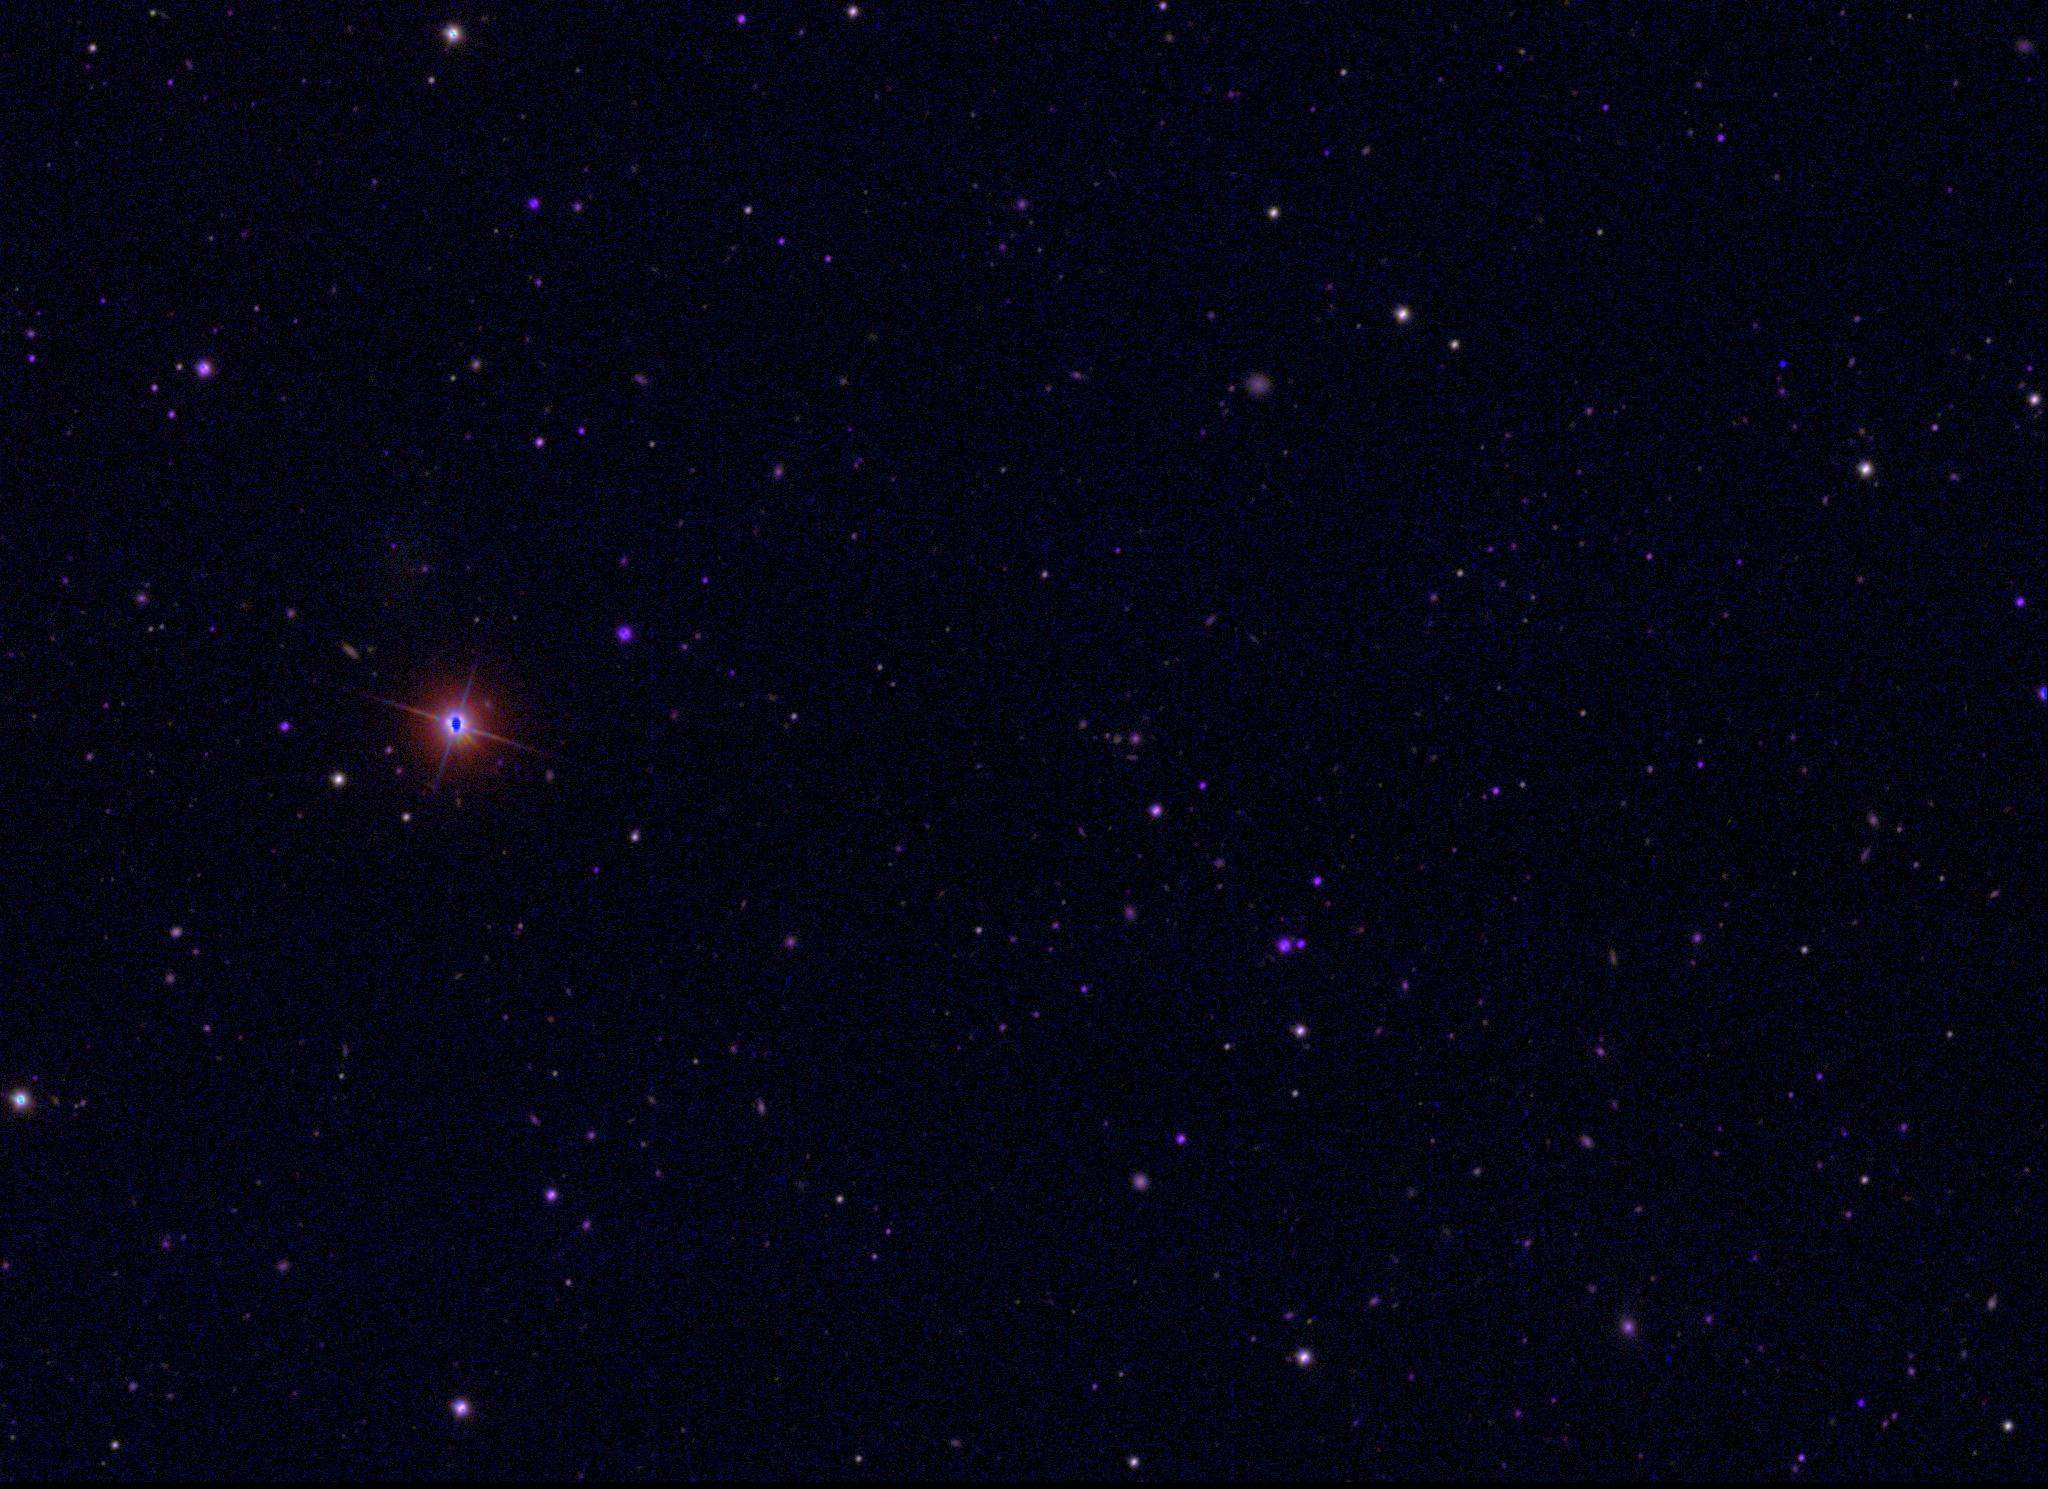L: (1771, 358, 1786, 372)
